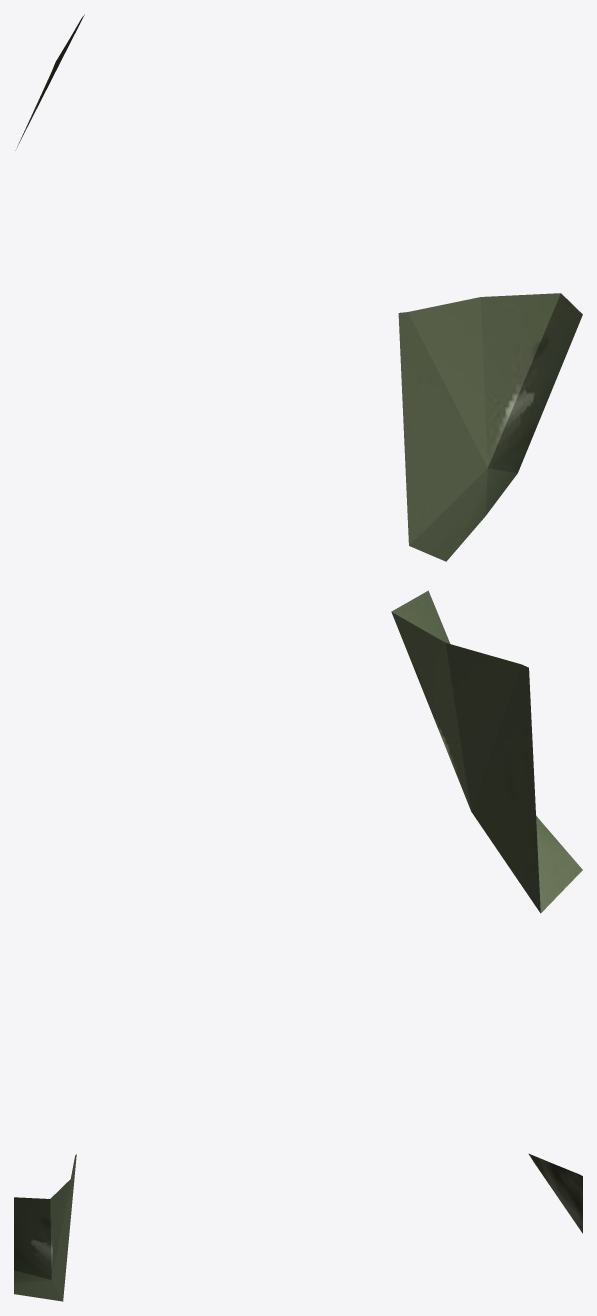
3 views of the same model, one above another, from view 1: azimuth 30°, elevation 25°; view 2: azimuth 150°, elevation 25°; view 3: azimuth 270°, elevation 25° (orthographic). The views are drawn at different scales.
Bounding box in the file's own units: 0.5599 × 0.8479 × 2.95.
Materials: 1 (1 with a texture image).
